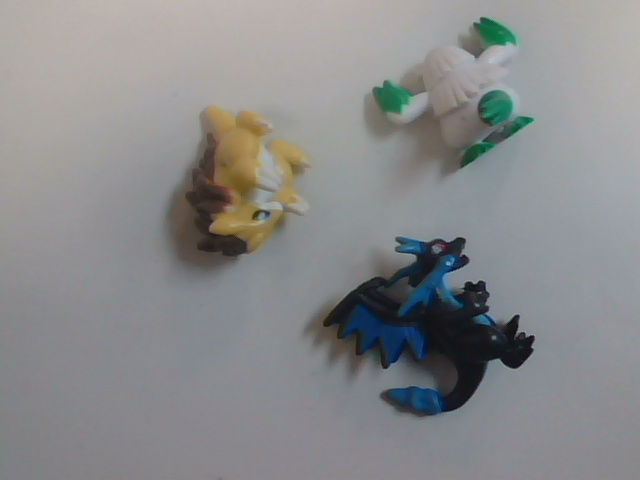abomasnow: (372, 10, 584, 209)
charizard: (333, 239, 553, 448)
sandslash: (146, 99, 328, 294)
